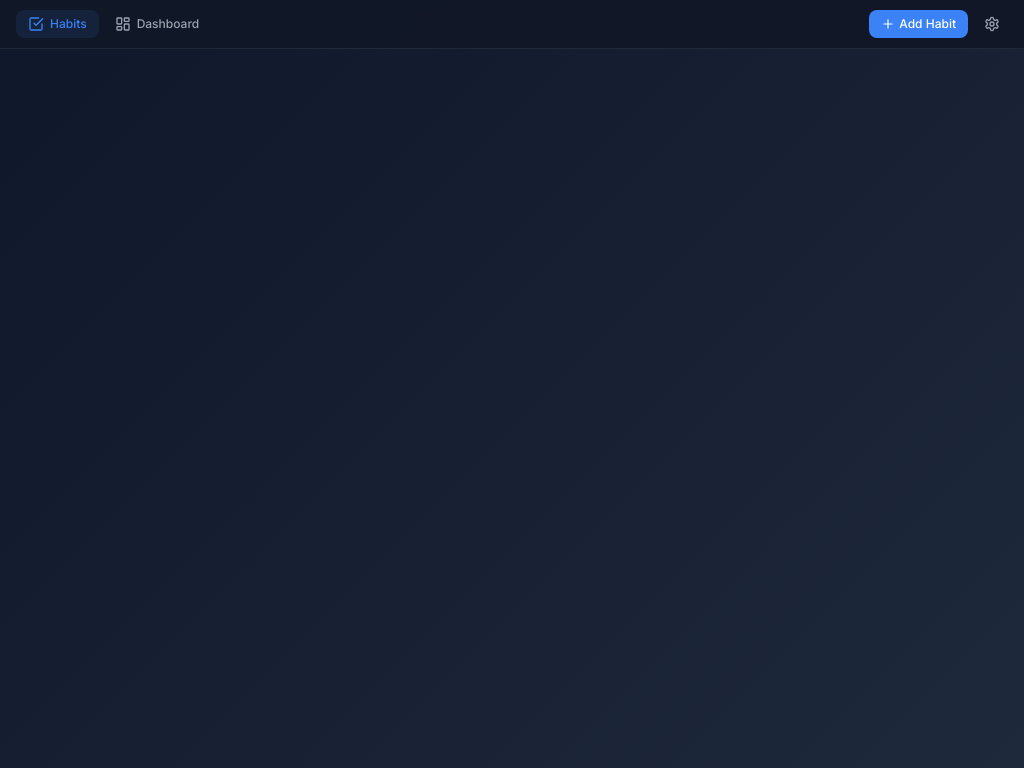
Test case: Navigation › opens settings dropdown on gear click
Click the button named "Open settings" at (992, 24), box [976,8,1008,40]
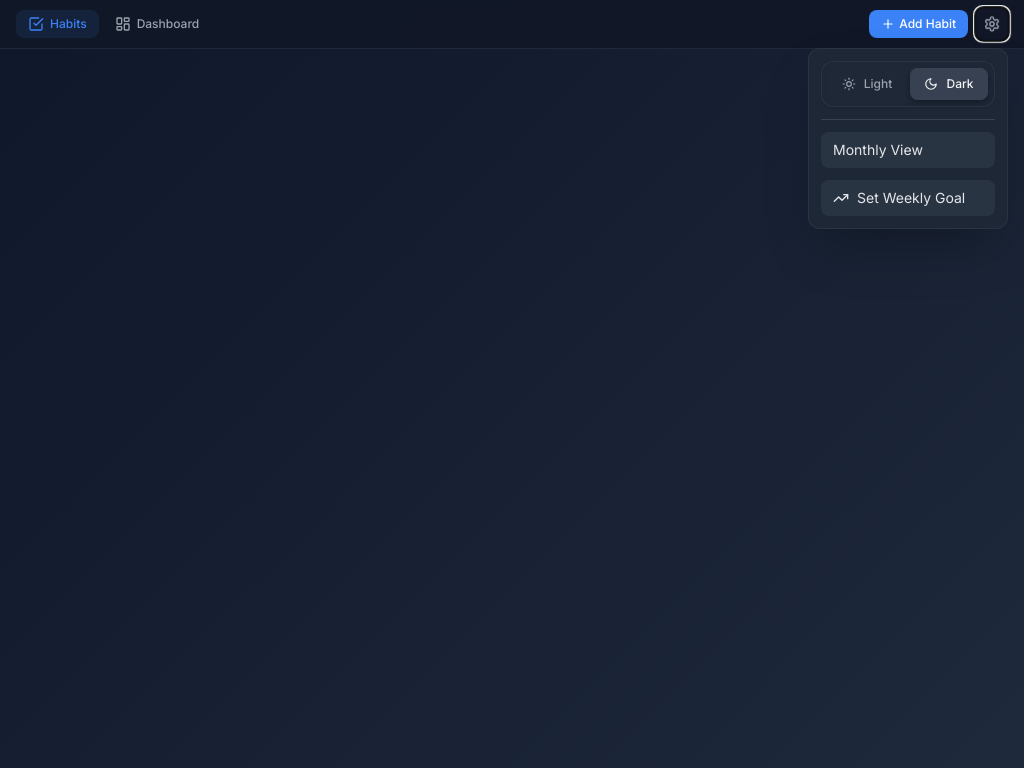
Expected: the button "Monthly View" is shown, [821,132,995,168]
Expected: the button "Set Weekly Goal" is shown, [821,180,995,216]
